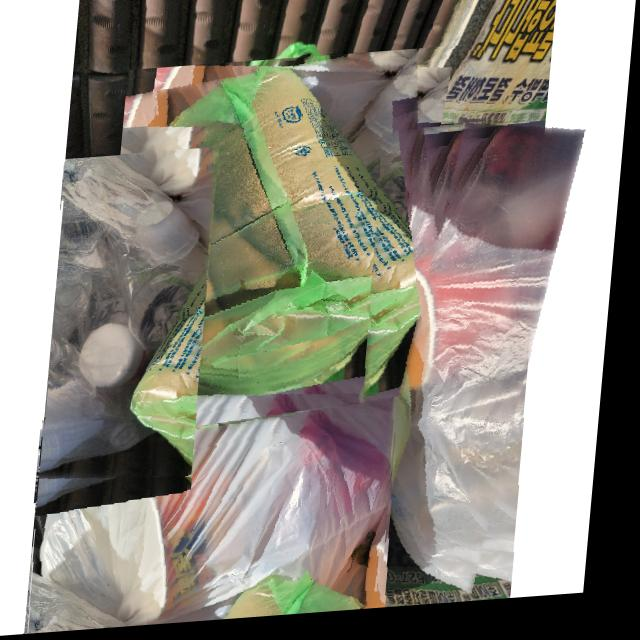general_trashbag: (124, 56, 436, 466)
other_trashbag: (358, 129, 588, 614), (40, 404, 402, 635), (50, 152, 216, 482)
